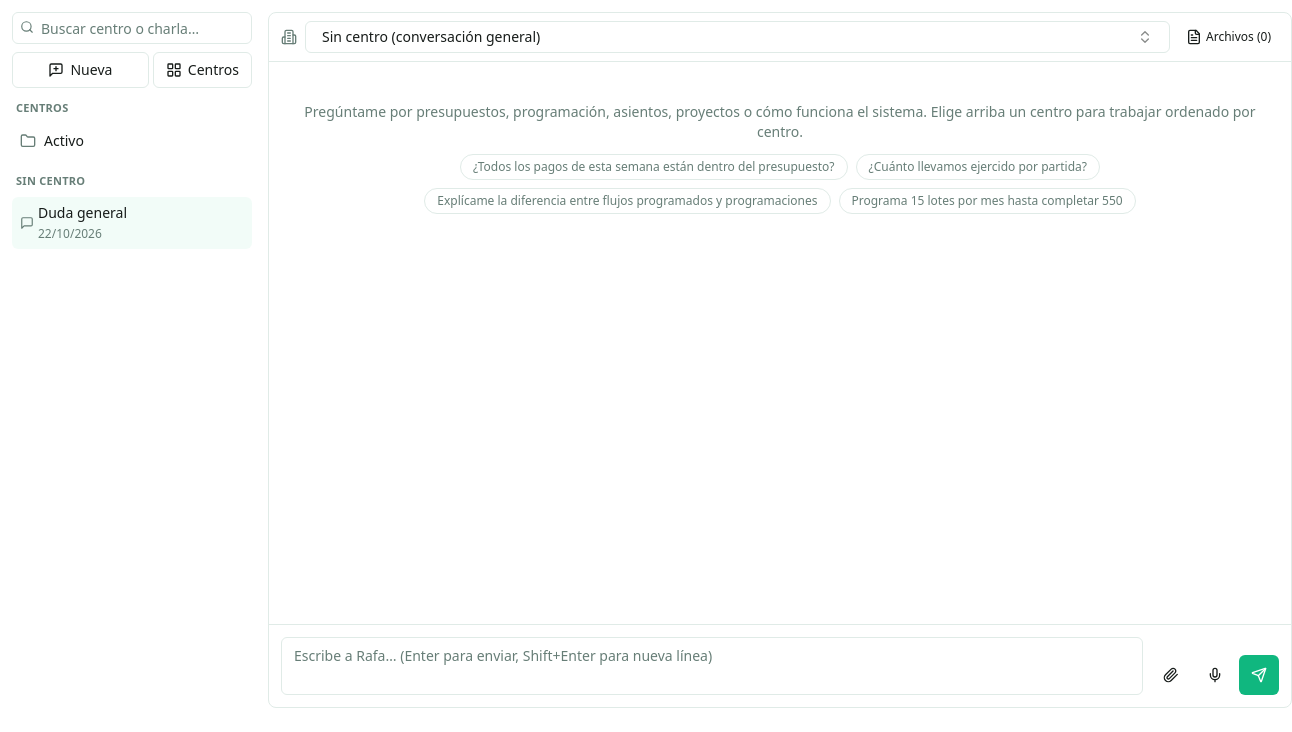
Scenario: centros dados de baja en Rafa › no muestra las charlas de centros dados de baja ni las abre al entrar; se pueden ver con «Mostrar dados de baja»
The image size is (1292, 732).
Check: the text "Duda general" is shown, box [38,203,127,222]
Check: the text "Charla del centro cerrado" is not shown
Click the button with aria-label "Ver centros en cuadros". click: point(202, 70)
box: [153,52,252,88]
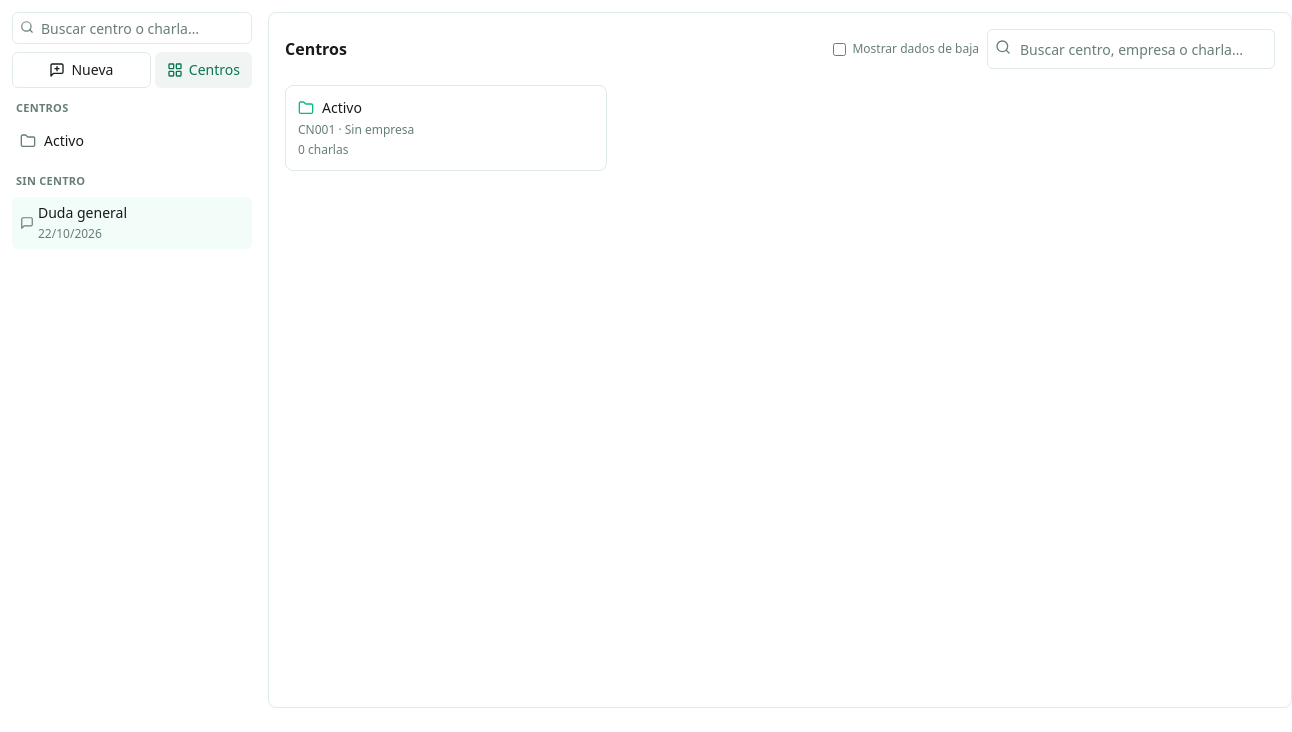
Click the checkbox named "Mostrar centros dados de baja". click: point(840, 49)
box: [833,42,846,56]
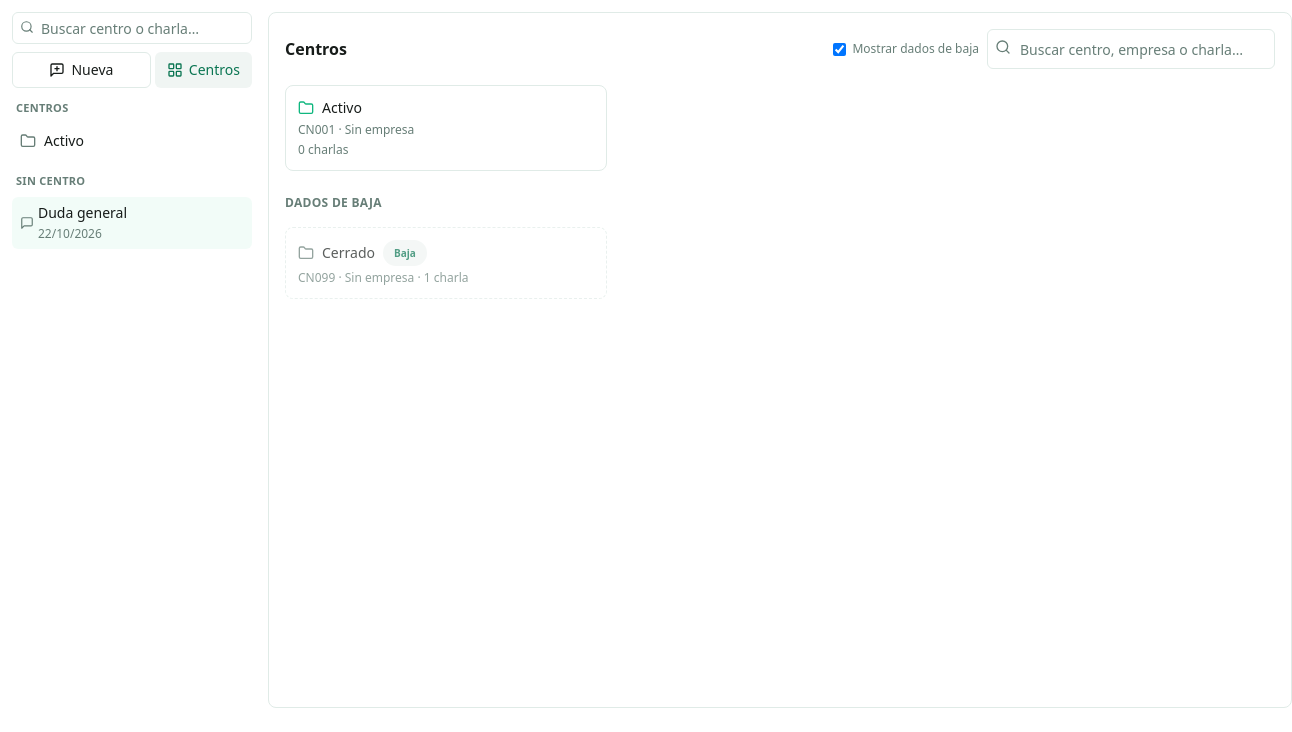
Check: the button with aria-label "Abrir centro dado de baja CN099" shows "1 charla"
Click the button with aria-label "Abrir centro dado de baja CN099". click: point(348, 252)
box: [285,227,607,299]
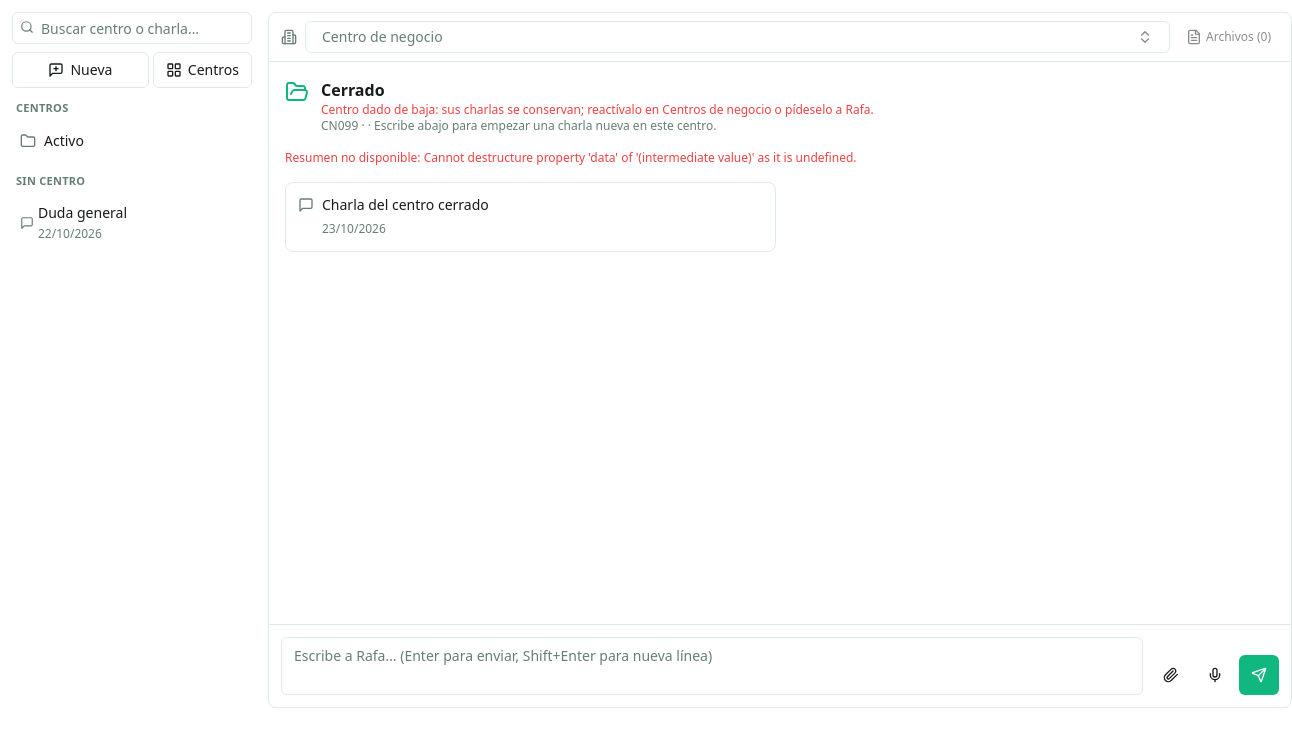
Check: the text "Centro dado de baja" is shown, box [321,101,874,118]
